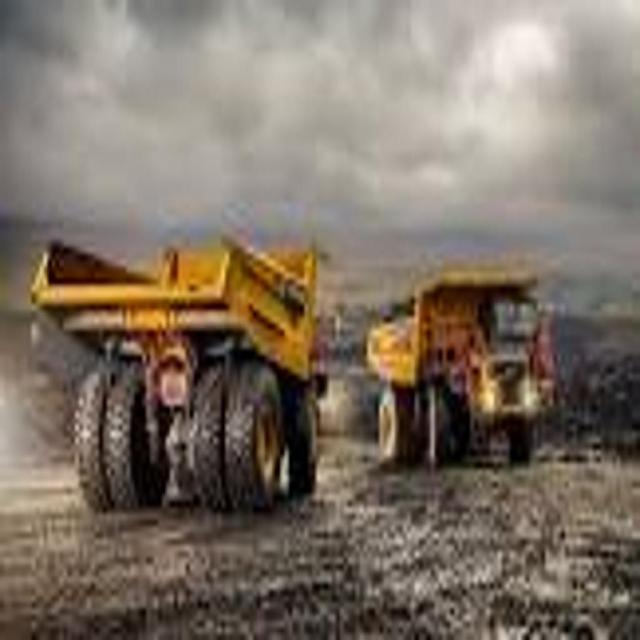dump_truck: (34, 188, 367, 546), (366, 232, 559, 474)
